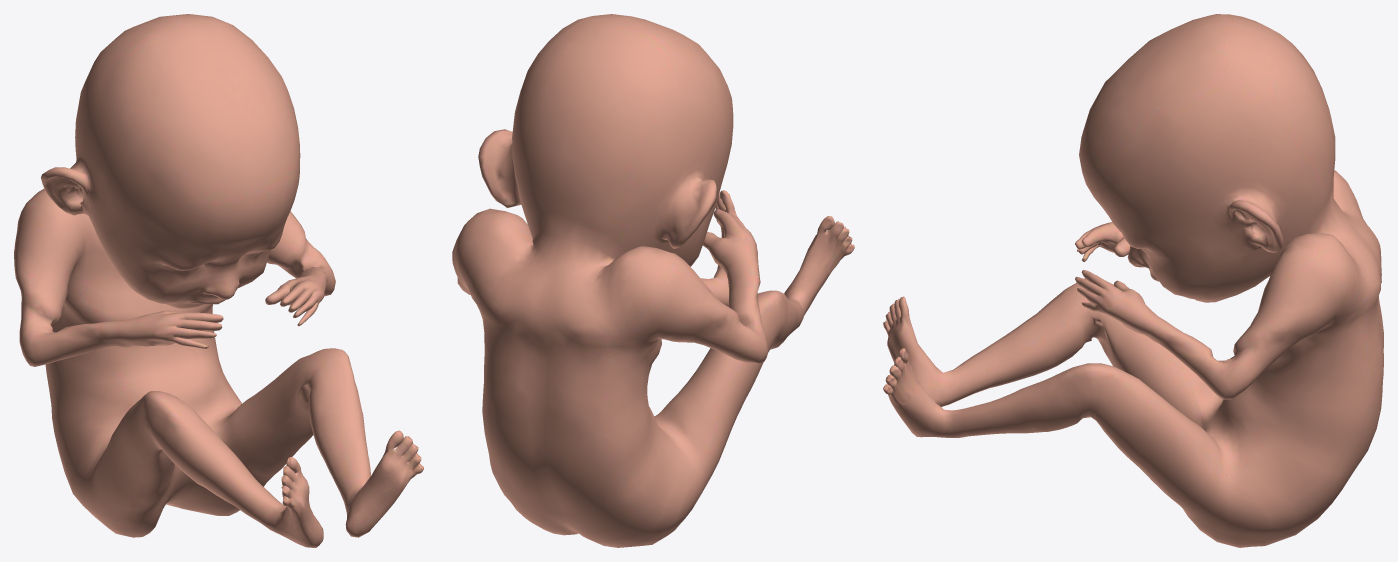
3 views of the same model, side by side, from view 1: azimuth 30°, elevation 25°; view 2: azimuth 150°, elevation 25°; view 3: azimuth 270°, elevation 25° (orthographic).
Visible parts, largest first — view 1: Baby; view 2: Baby; view 3: Baby.
Part boxes in pixels (x1=…): Baby: x1=14, y1=14, x2=423, y2=547; Baby: x1=452, y1=14, x2=854, y2=547; Baby: x1=883, y1=14, x2=1383, y2=547.
Bounding box in the file's own units: 0.152 × 0.2391 × 0.2168.
Materials: 1 (1 with a texture image).
